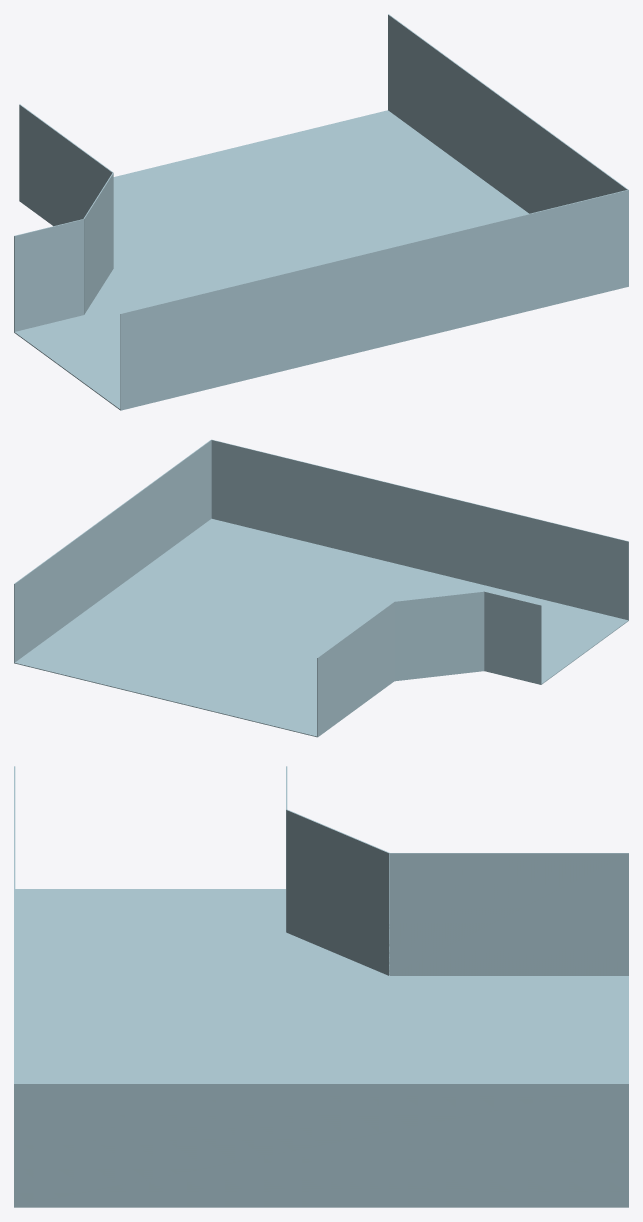
3 views of the same model, one above another, from view 1: azimuth 30°, elevation 25°; view 2: azimuth 150°, elevation 25°; view 3: azimuth 270°, elevation 25° (orthographic). The views are drawn at different scales.
Visible parts, largest first — view 1: L1-C01; view 2: L1-C01; view 3: L1-C01.
Part boxes in pixels (x1,y1,x2,y2): L1-C01: [14, 14, 628, 410]; L1-C01: [14, 439, 628, 737]; L1-C01: [14, 766, 628, 1207].
Size of the model in its own units: 1.1 by 0.2 by 0.9.
